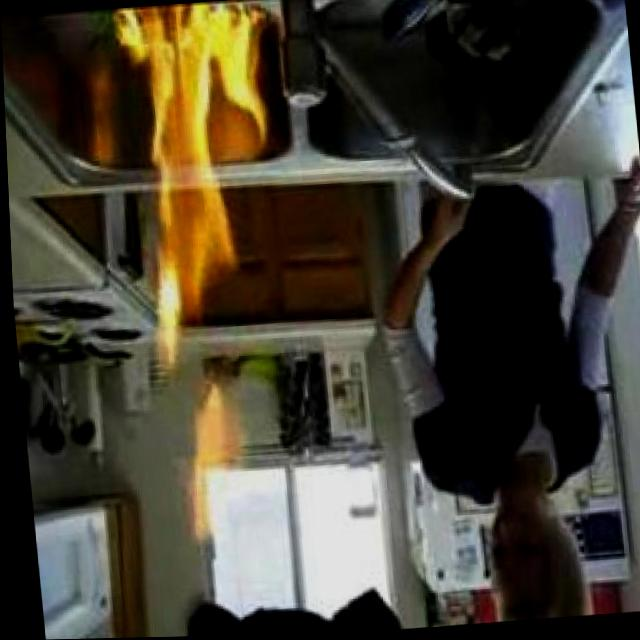helmet: (110, 0, 304, 381), (160, 372, 265, 553)
